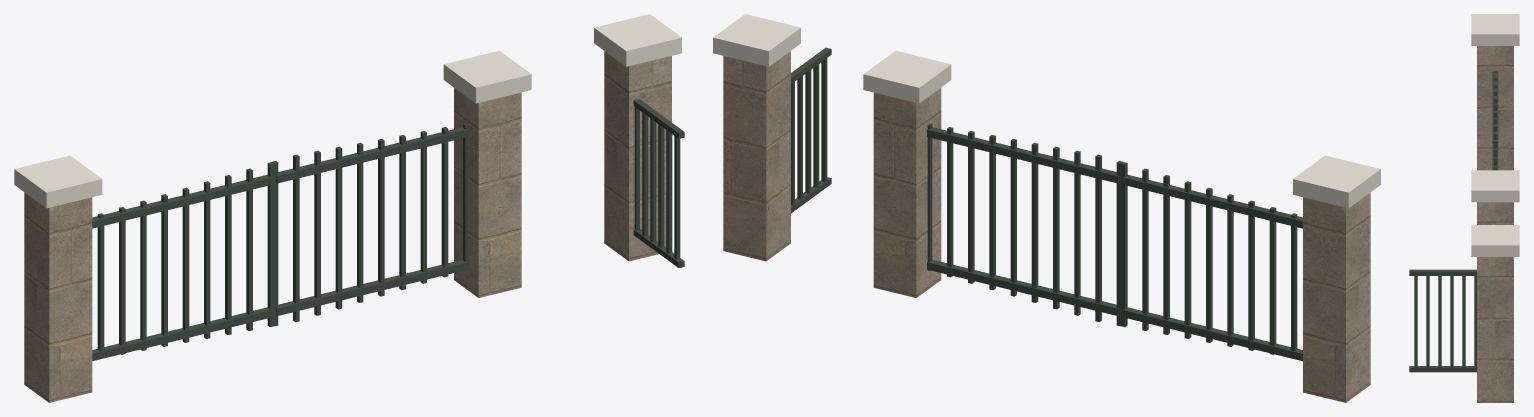
File: gate.glb
3 views of the same model, side by side, from view 1: azimuth 30°, elevation 25°; view 2: azimuth 150°, elevation 25°; view 3: azimuth 270°, elevation 25° (orthographic). The views are drawn at different scales.
Parts seen in each view (by area): view 1: gate; view 2: gate; view 3: gate.
Boxes of the visible parts, x1,y1,x2,y2 form: gate: (14,14,684,402); gate: (713,14,1380,402); gate: (1409,14,1519,402).
Size of the model in its own units: 5.92 by 1.91 by 1.19.
Materials: 3 (1 with a texture image).
